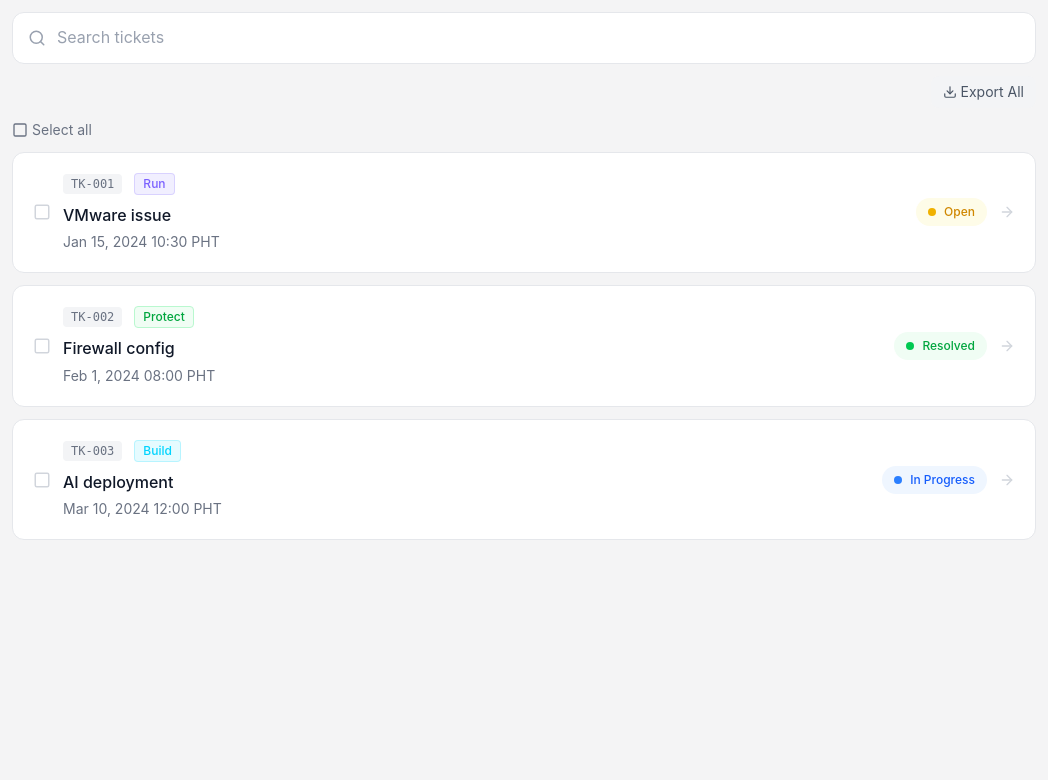
Scenario: TicketList admin batch actions › selects all and clears selection
Click the button "Select all": (52, 130) 12,120 -> 92,140
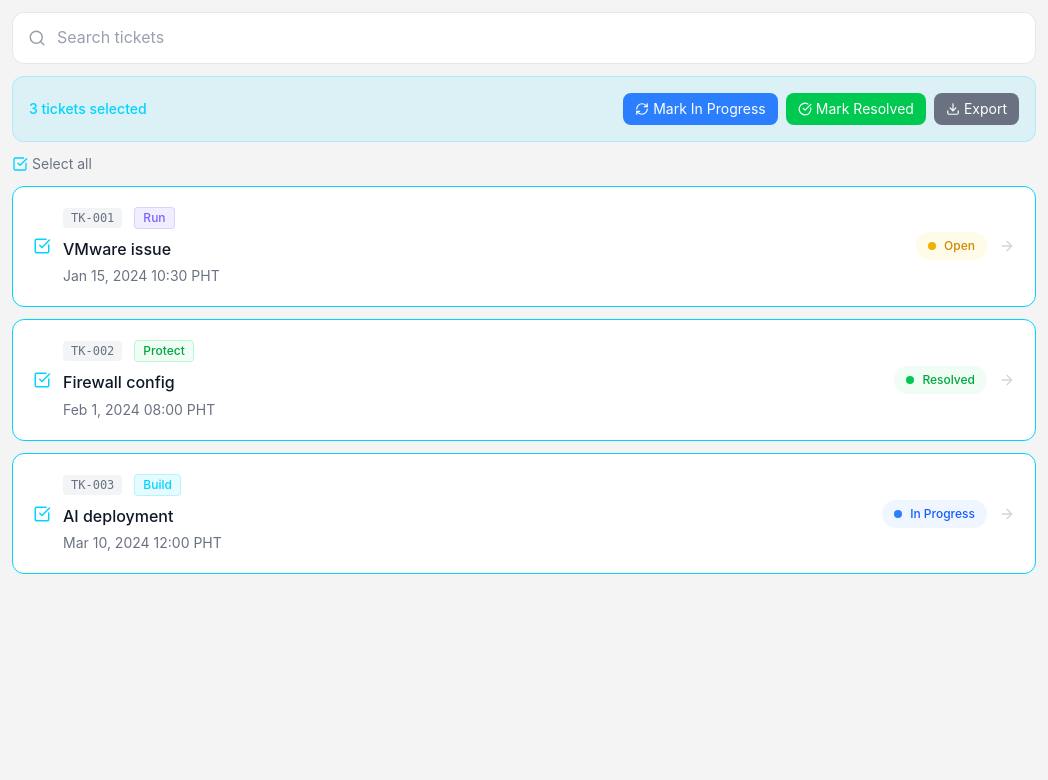
Expected: the text "3 tickets selected" is shown, 29,99 -> 147,119
Click the button "Select all": (52, 164) 12,154 -> 92,174
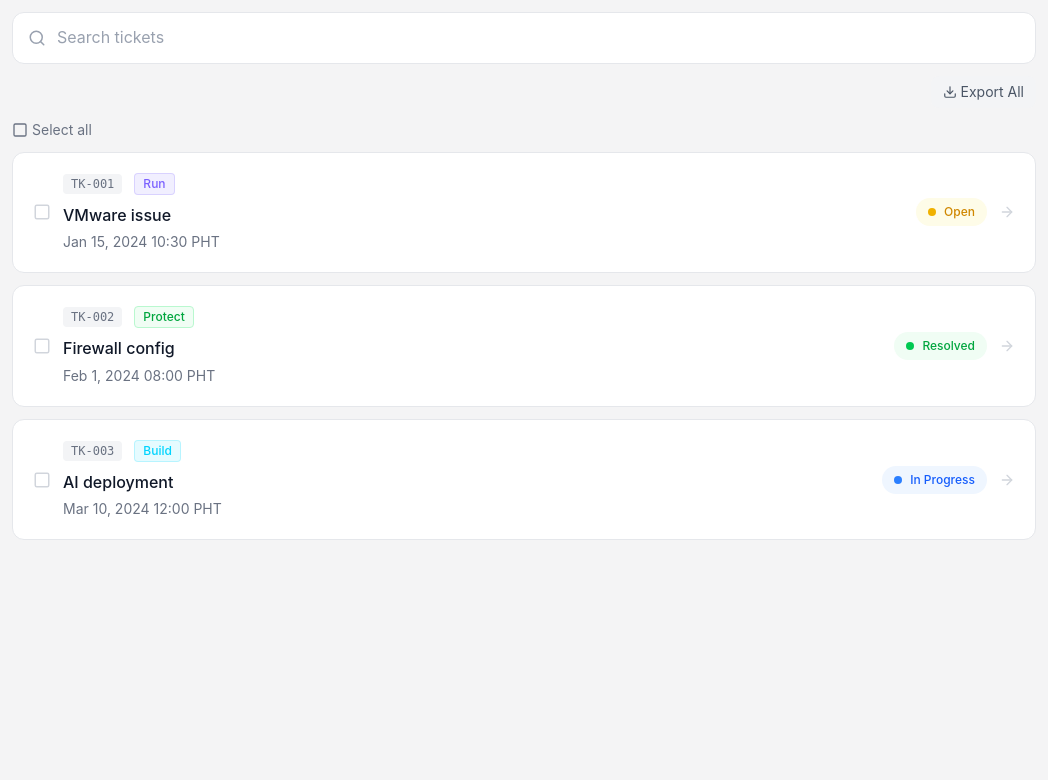
Expected: the text "3 tickets selected" is gone
